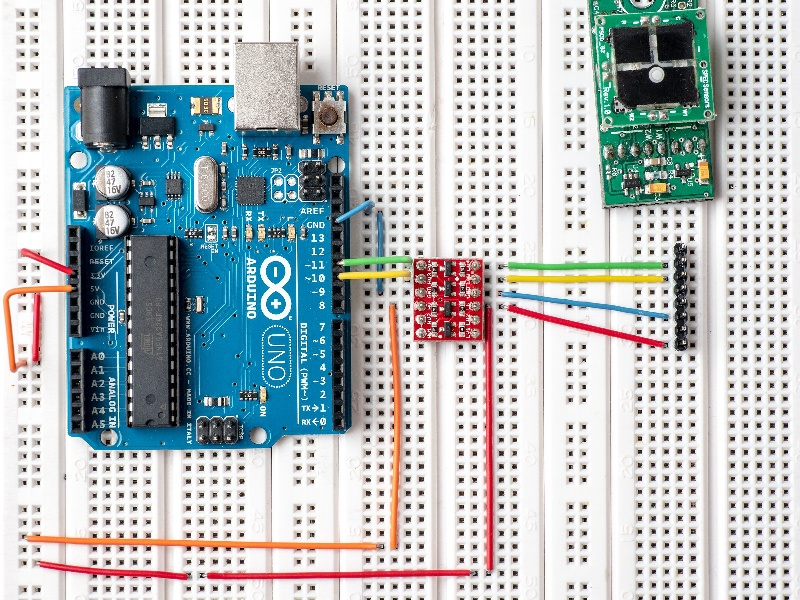uno: (43, 29, 367, 458)
